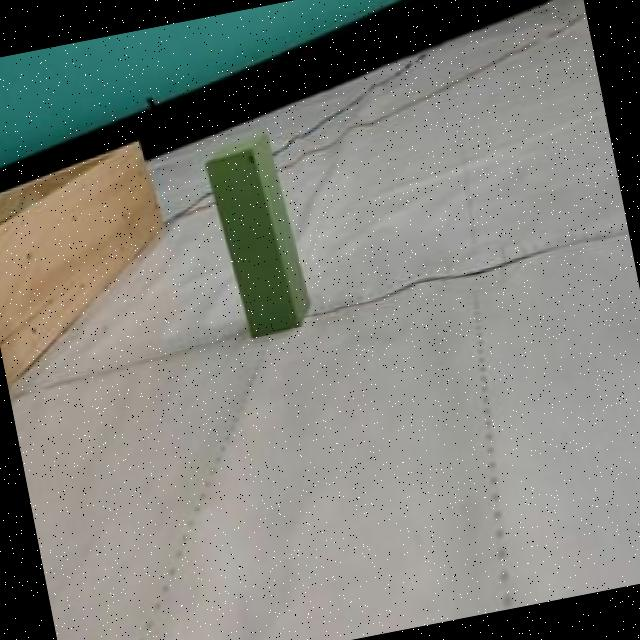greenbox: (200, 135, 309, 342)
